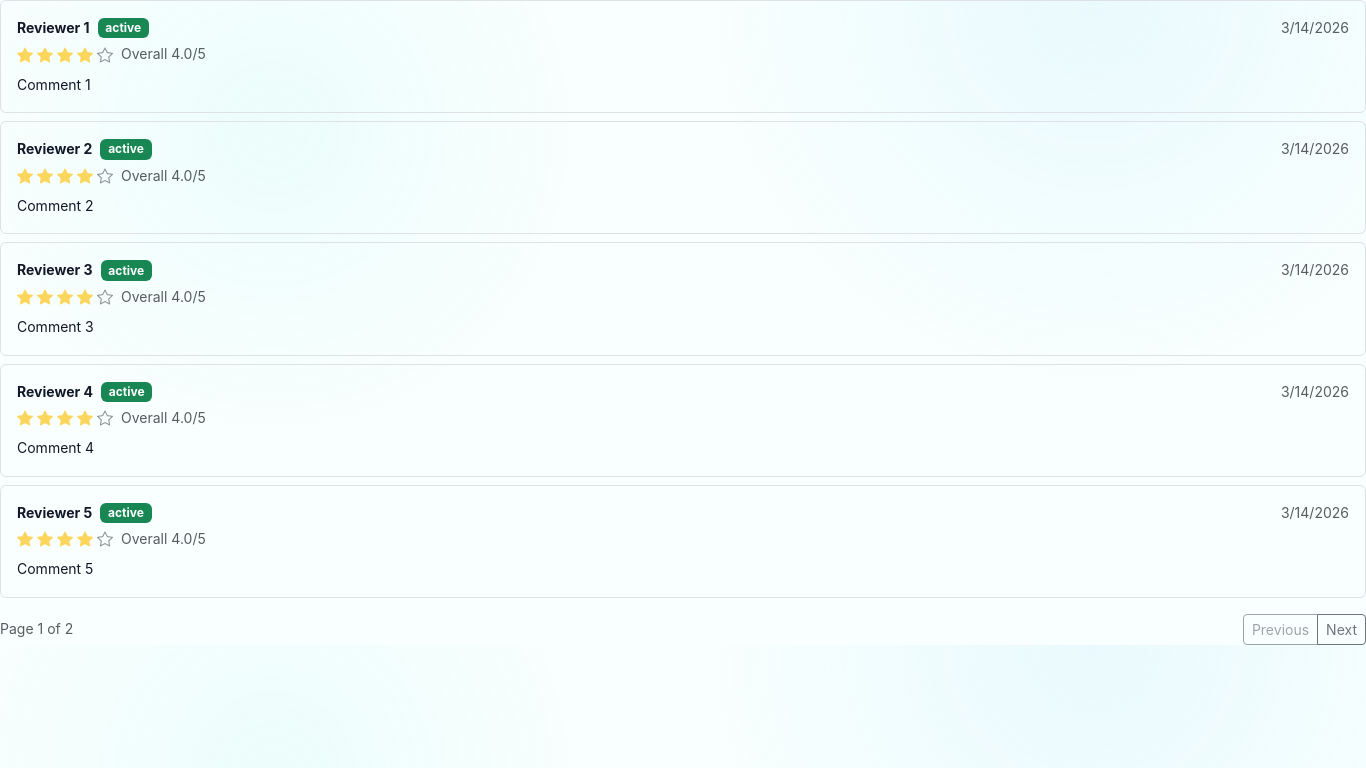
Test case: ReviewList › supports pagination controls
Expected: the text "Comment 1" is shown, [17,76,91,93]
Expected: the text "Comment 6" is not shown
Click the button "Next" at (1342, 629), box [1317,614,1365,645]
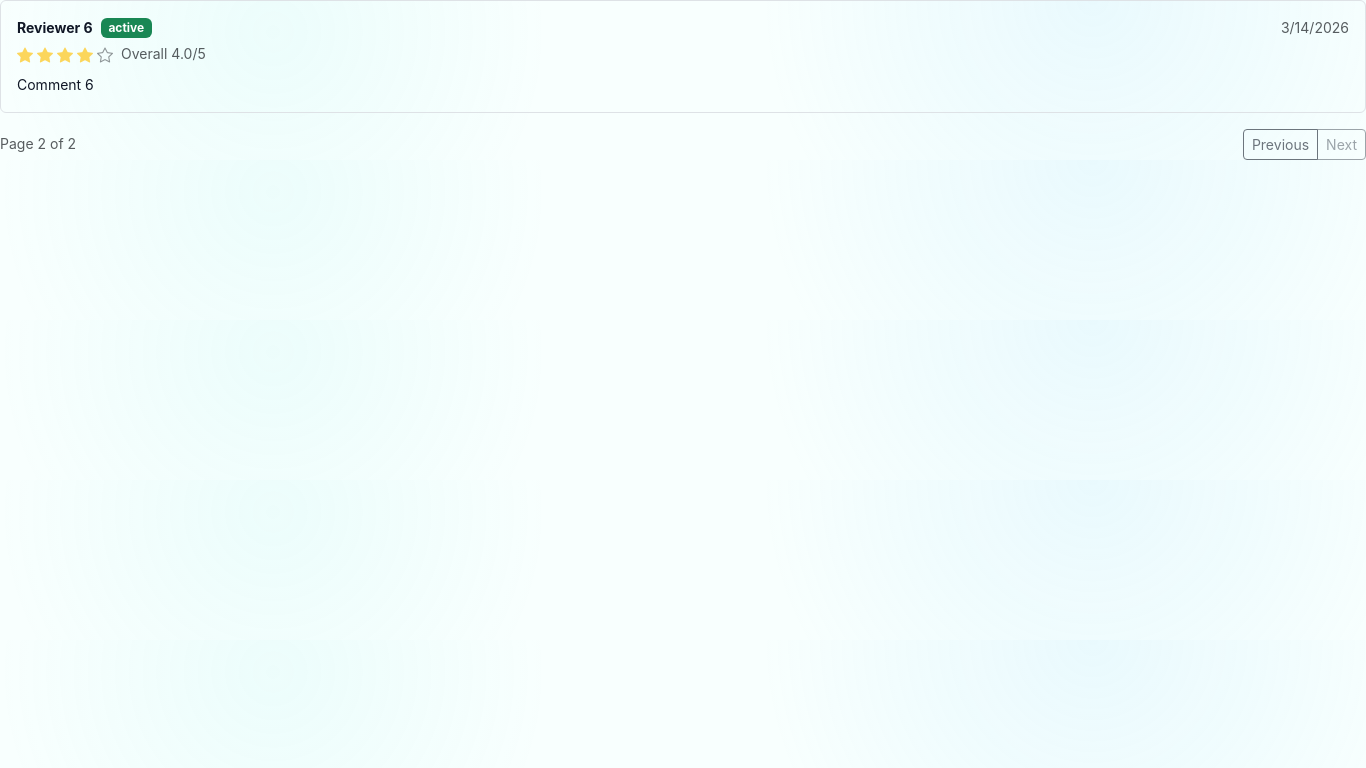
Expected: the text "Comment 6" is shown, [17,76,94,93]
Expected: the text "Comment 1" is gone
